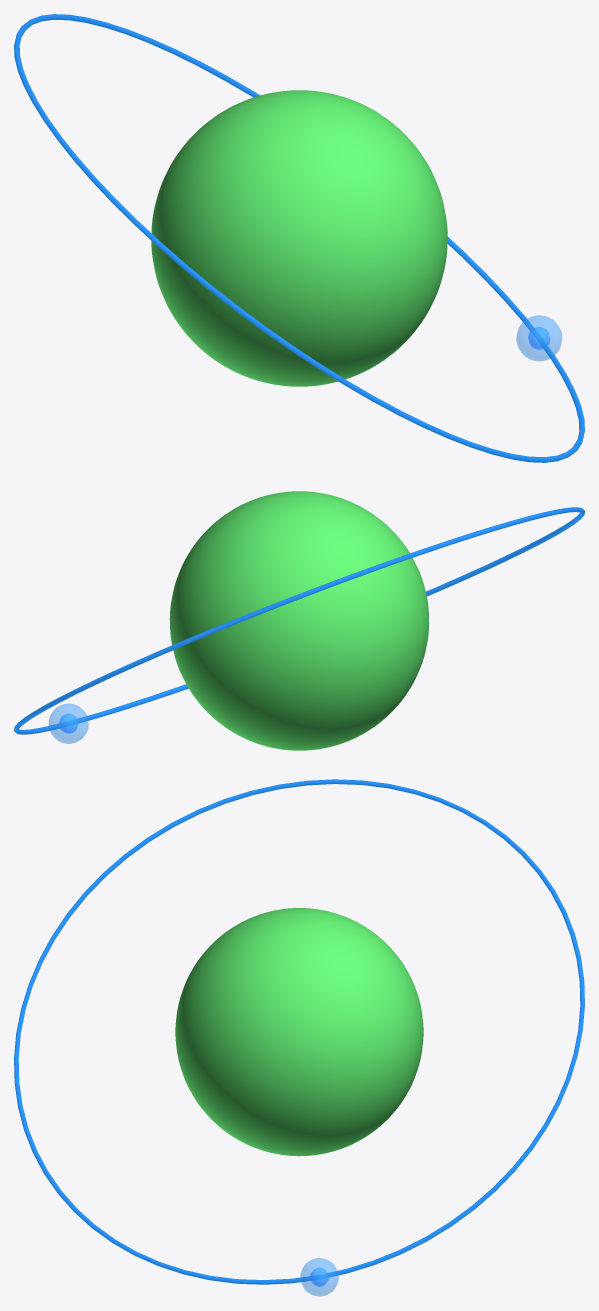
The picture shows the model from 3 angles, top to bottom: view 1: azimuth 30°, elevation 25°; view 2: azimuth 150°, elevation 25°; view 3: azimuth 270°, elevation 25°; orthographic projection. The views are drawn at different scales.
Parts seen in each view (by area): view 1: H, object 2, object 3; view 2: H, object 2, object 3; view 3: H, object 2, object 3.
Part boxes in pixels (box(x1,y1,x2,y2)): H: box(151, 90, 447, 386); object 2: box(14, 14, 584, 462); object 3: box(516, 315, 561, 361); H: box(169, 491, 429, 750); object 2: box(14, 507, 584, 734); object 3: box(48, 703, 88, 743); H: box(175, 908, 423, 1156); object 2: box(14, 779, 584, 1284); object 3: box(300, 1258, 338, 1296).
Bounding box in the file's own units: 2.1 × 1.44 × 2.36.
